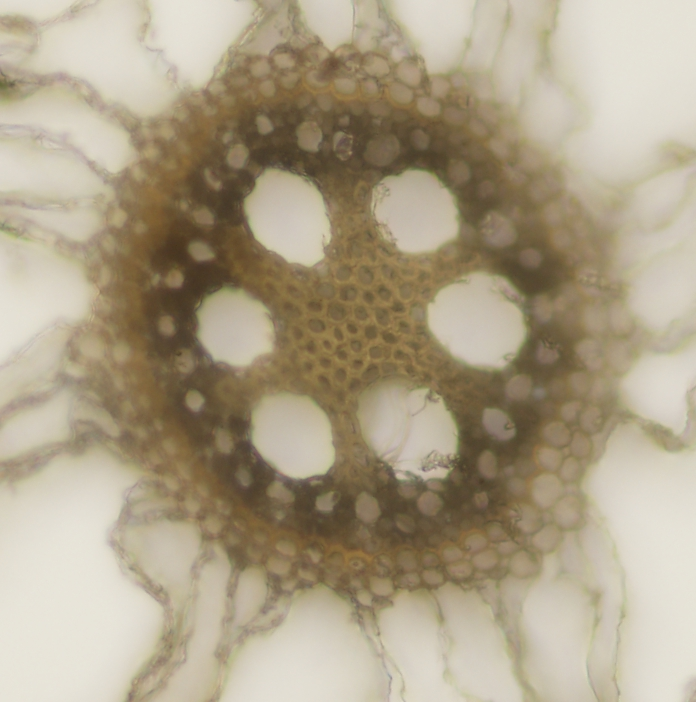lm: (355, 374, 461, 482), (426, 270, 528, 371), (243, 164, 331, 268), (367, 168, 461, 256), (249, 390, 336, 478), (193, 283, 276, 369)
